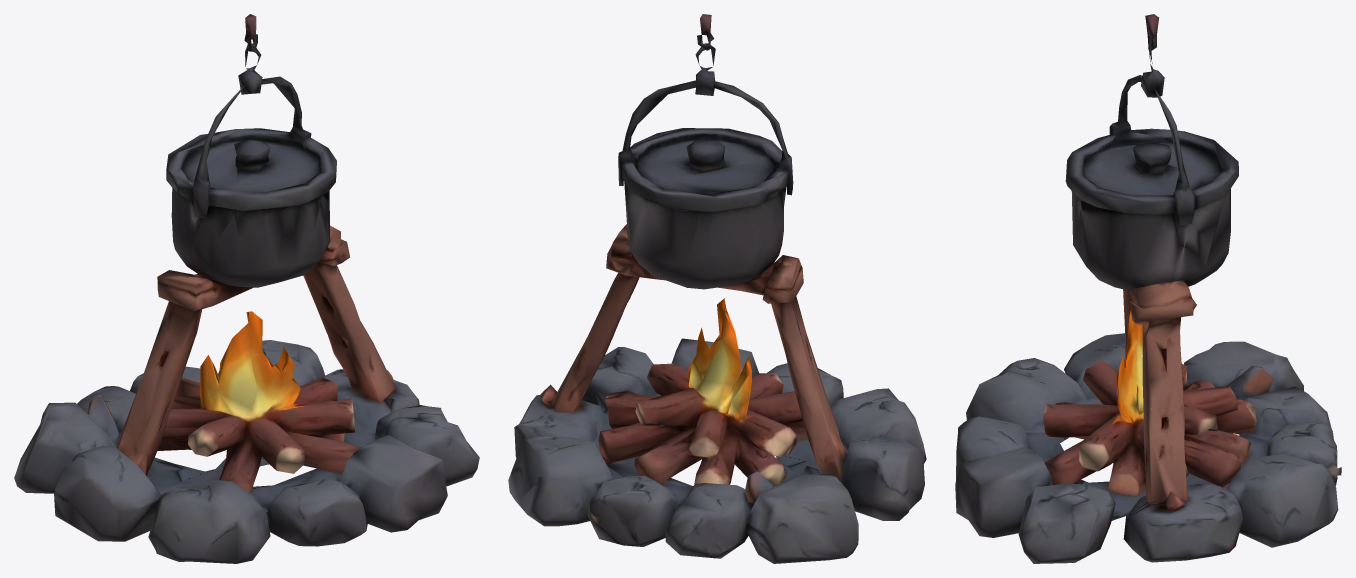
File: env-campfire.glb
The picture shows the model from 3 angles, left to right: view 1: azimuth 30°, elevation 25°; view 2: azimuth 150°, elevation 25°; view 3: azimuth 270°, elevation 25°; orthographic projection.
Visible parts, largest first — view 1: tripo_node_9c0dca4e-7857-4fca-ab68-d3d012a4d441; view 2: tripo_node_9c0dca4e-7857-4fca-ab68-d3d012a4d441; view 3: tripo_node_9c0dca4e-7857-4fca-ab68-d3d012a4d441.
Part boxes in pixels (x1,y1,x2,y2): tripo_node_9c0dca4e-7857-4fca-ab68-d3d012a4d441: (14, 14, 479, 563); tripo_node_9c0dca4e-7857-4fca-ab68-d3d012a4d441: (508, 14, 926, 563); tripo_node_9c0dca4e-7857-4fca-ab68-d3d012a4d441: (955, 14, 1341, 563).
Bounding box in the file's own units: 0.8422 × 0.9994 × 0.7451.
1 material, 1 textured.
